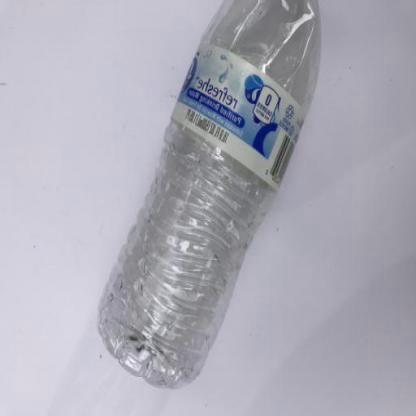Plastic: (91, 0, 337, 396)
